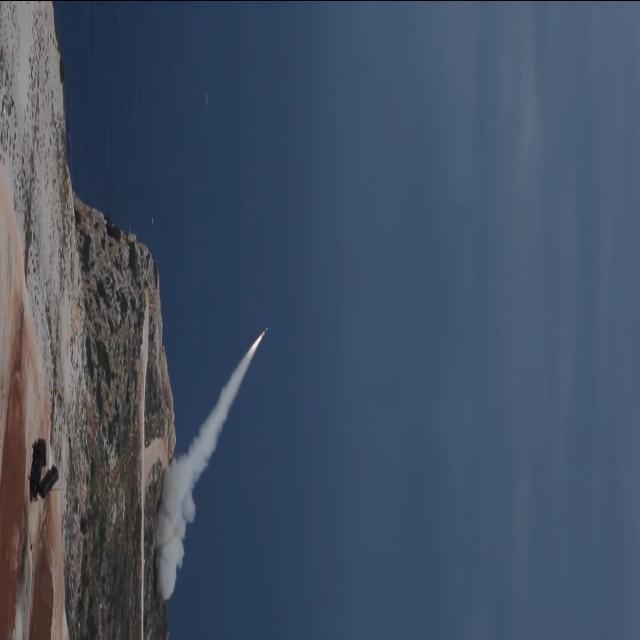Missile: (262, 324, 270, 336)
